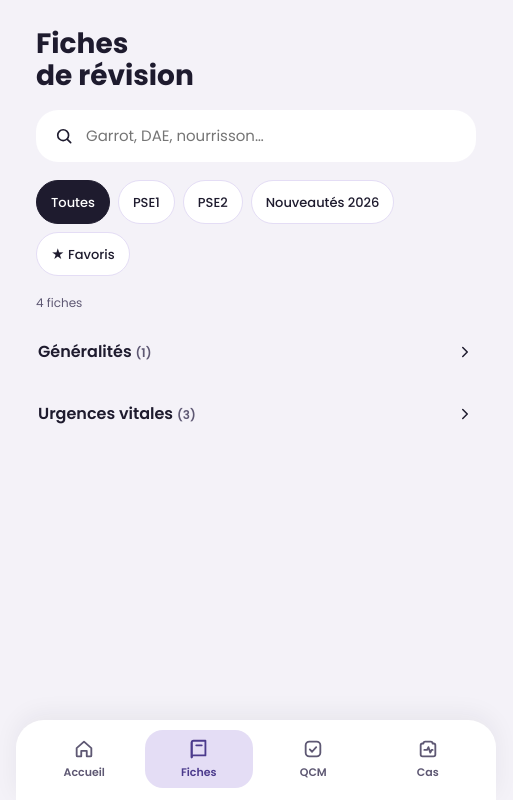
Test: Fiches › recherche une fiche sans accents, l’ouvre et la marque comme lue
Type "hemorragie" into the search field named "Rechercher une fiche". click: (271, 136)
box: [84,112,458,160]
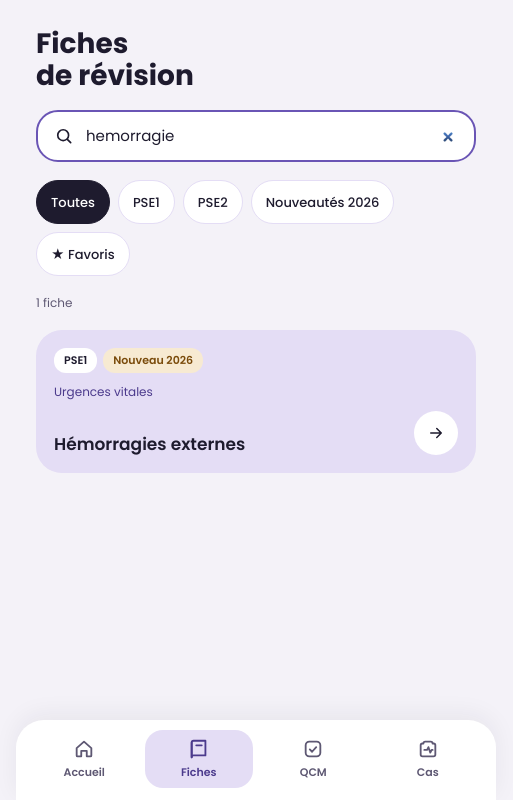
expect the message reads "1 fiche": met, box [36,294,72,311]
Click the link "PSE1 Nouveau 2026 Urgences vitales Hémorragies externes". click: (76, 361)
box: [36,330,476,473]
(page scrolled)
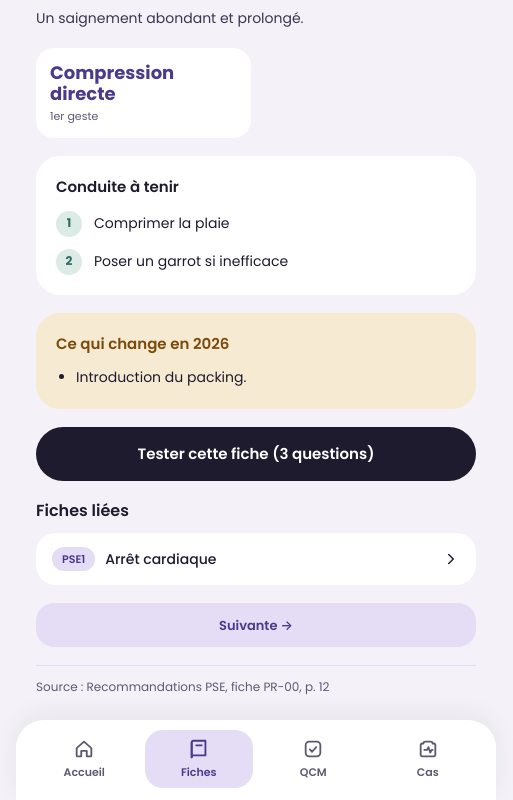
expect the list item "Introduction du packing." is shown: met, box [76,367,246,387]
expect the text "Source : Recommandations PSE, fiche PR-00, p. 12" is shown: met, box [36,665,476,696]
